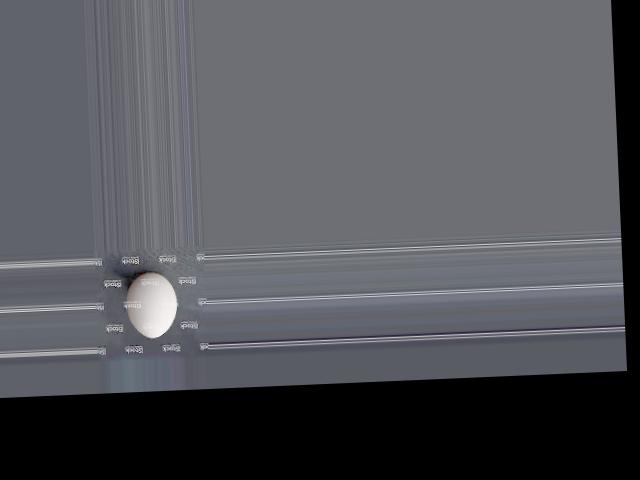egg: (124, 270, 177, 338)
